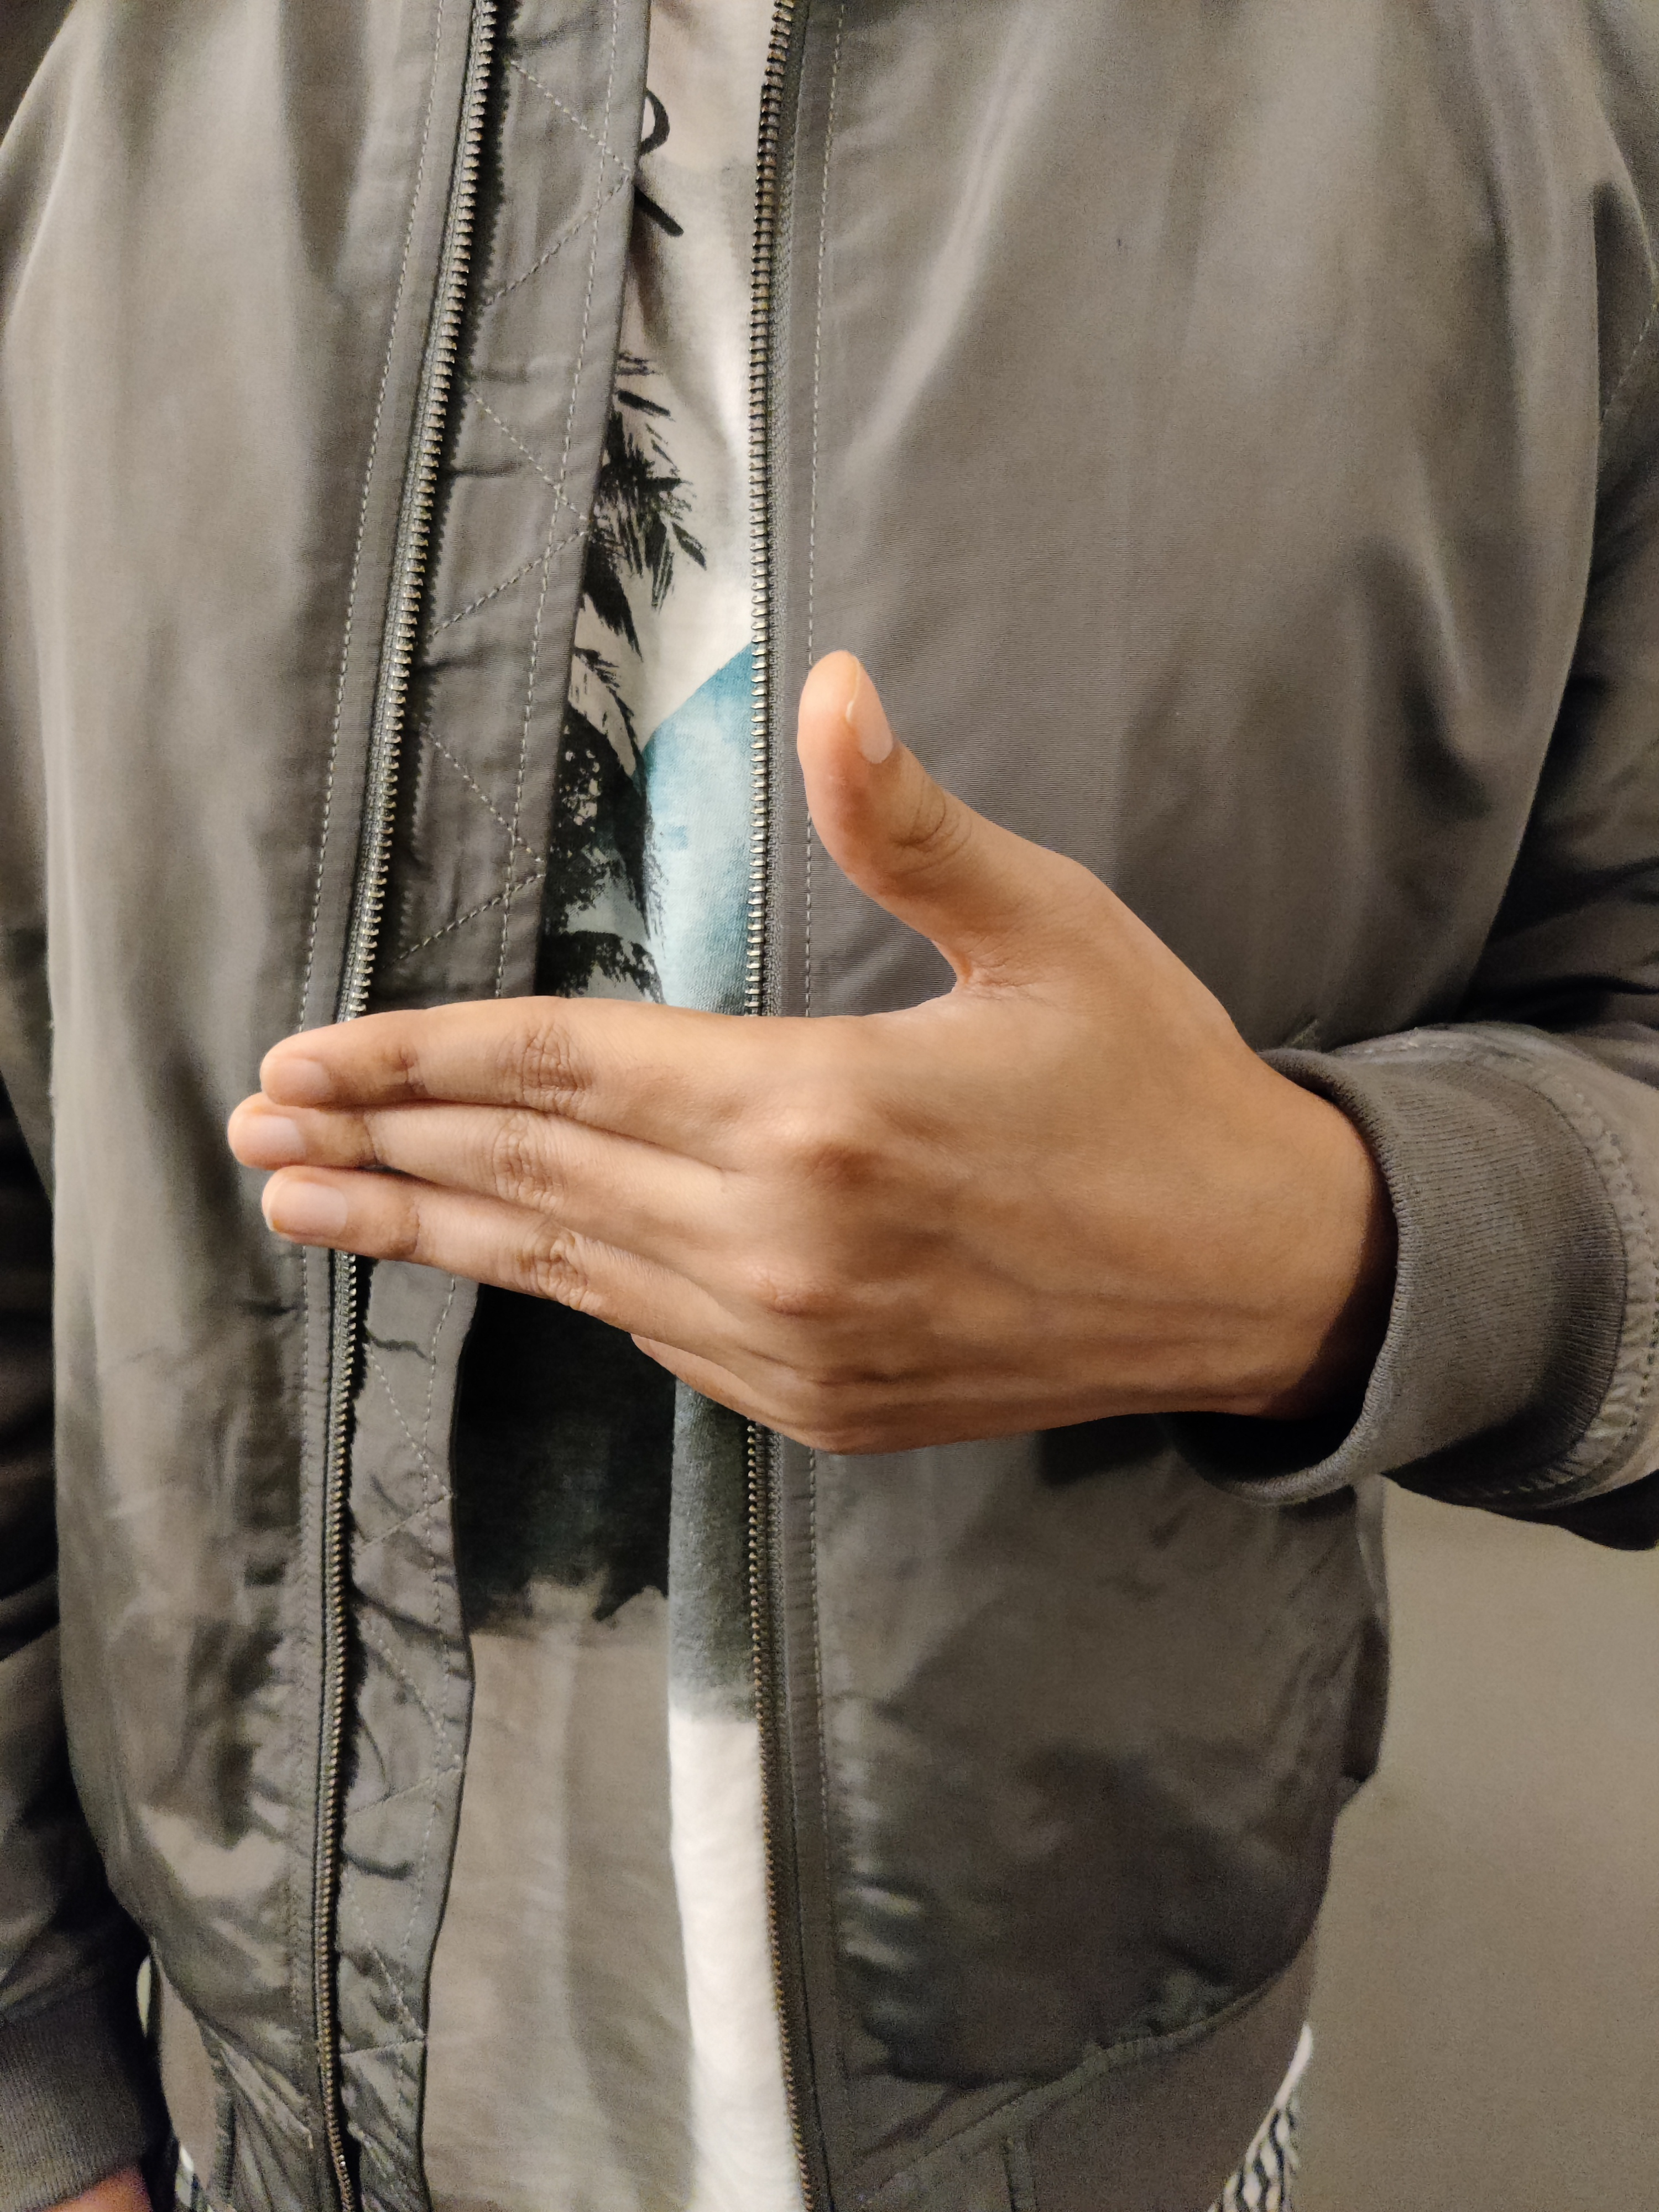right: (110, 564, 1635, 1689)
